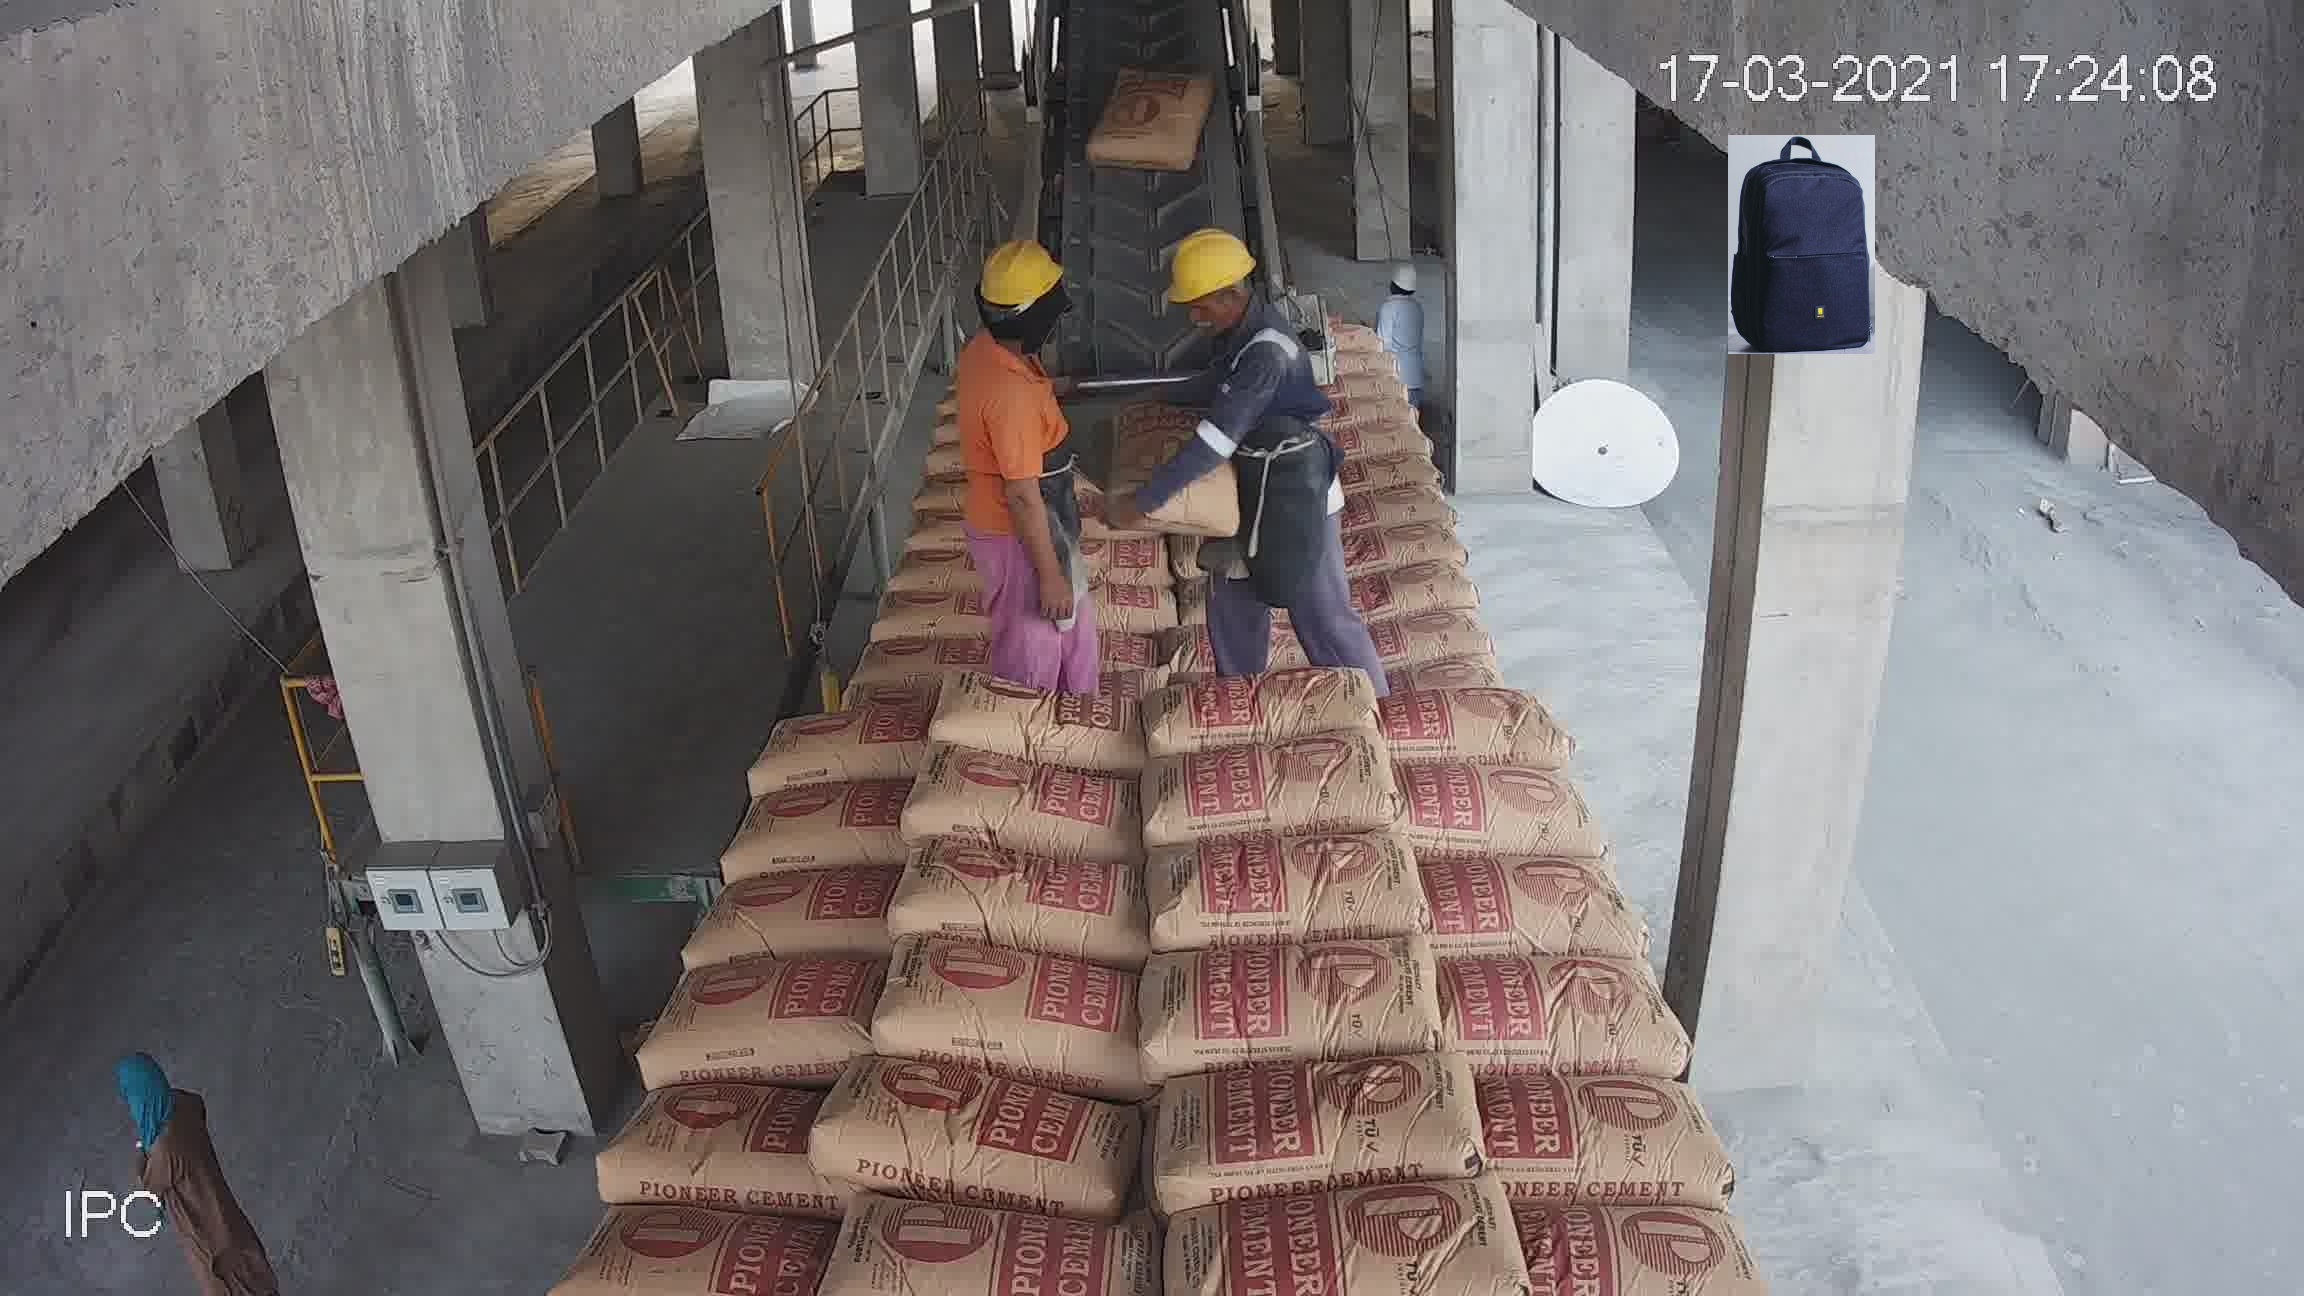bag: (1097, 256, 1218, 347), (1106, 5, 1195, 87)
bag_h: (1119, 1059, 1484, 1218), (828, 1060, 1161, 1214), (1119, 942, 1456, 1086), (889, 945, 1161, 1101), (1445, 1079, 1733, 1218), (1154, 1204, 1578, 1296), (1119, 836, 1408, 954), (1133, 728, 1402, 851), (630, 951, 881, 1081), (1427, 945, 1695, 1063), (1131, 567, 1385, 684), (791, 1204, 1165, 1283), (548, 1192, 820, 1296), (881, 752, 1138, 862), (590, 1082, 836, 1195), (881, 862, 1146, 961), (658, 869, 896, 965), (1152, 665, 1404, 748), (1413, 859, 1654, 946), (695, 782, 916, 873), (927, 676, 1161, 760), (739, 693, 938, 791), (1389, 761, 1601, 851), (1364, 696, 1581, 775), (1141, 519, 1375, 592), (1548, 1222, 1775, 1296), (1355, 617, 1549, 688), (945, 612, 1150, 679), (783, 619, 926, 714), (1336, 552, 1533, 620), (779, 578, 961, 644), (1138, 491, 1366, 540), (1147, 451, 1326, 503), (995, 457, 1157, 514), (861, 476, 987, 546), (978, 517, 1146, 568), (1342, 465, 1484, 524), (824, 527, 973, 582), (1320, 396, 1435, 460), (965, 571, 1144, 609), (1356, 514, 1510, 557), (923, 394, 1003, 446), (1320, 343, 1412, 388), (1321, 383, 1416, 418), (923, 440, 1005, 478)
belt: (1059, 0, 1253, 253)
